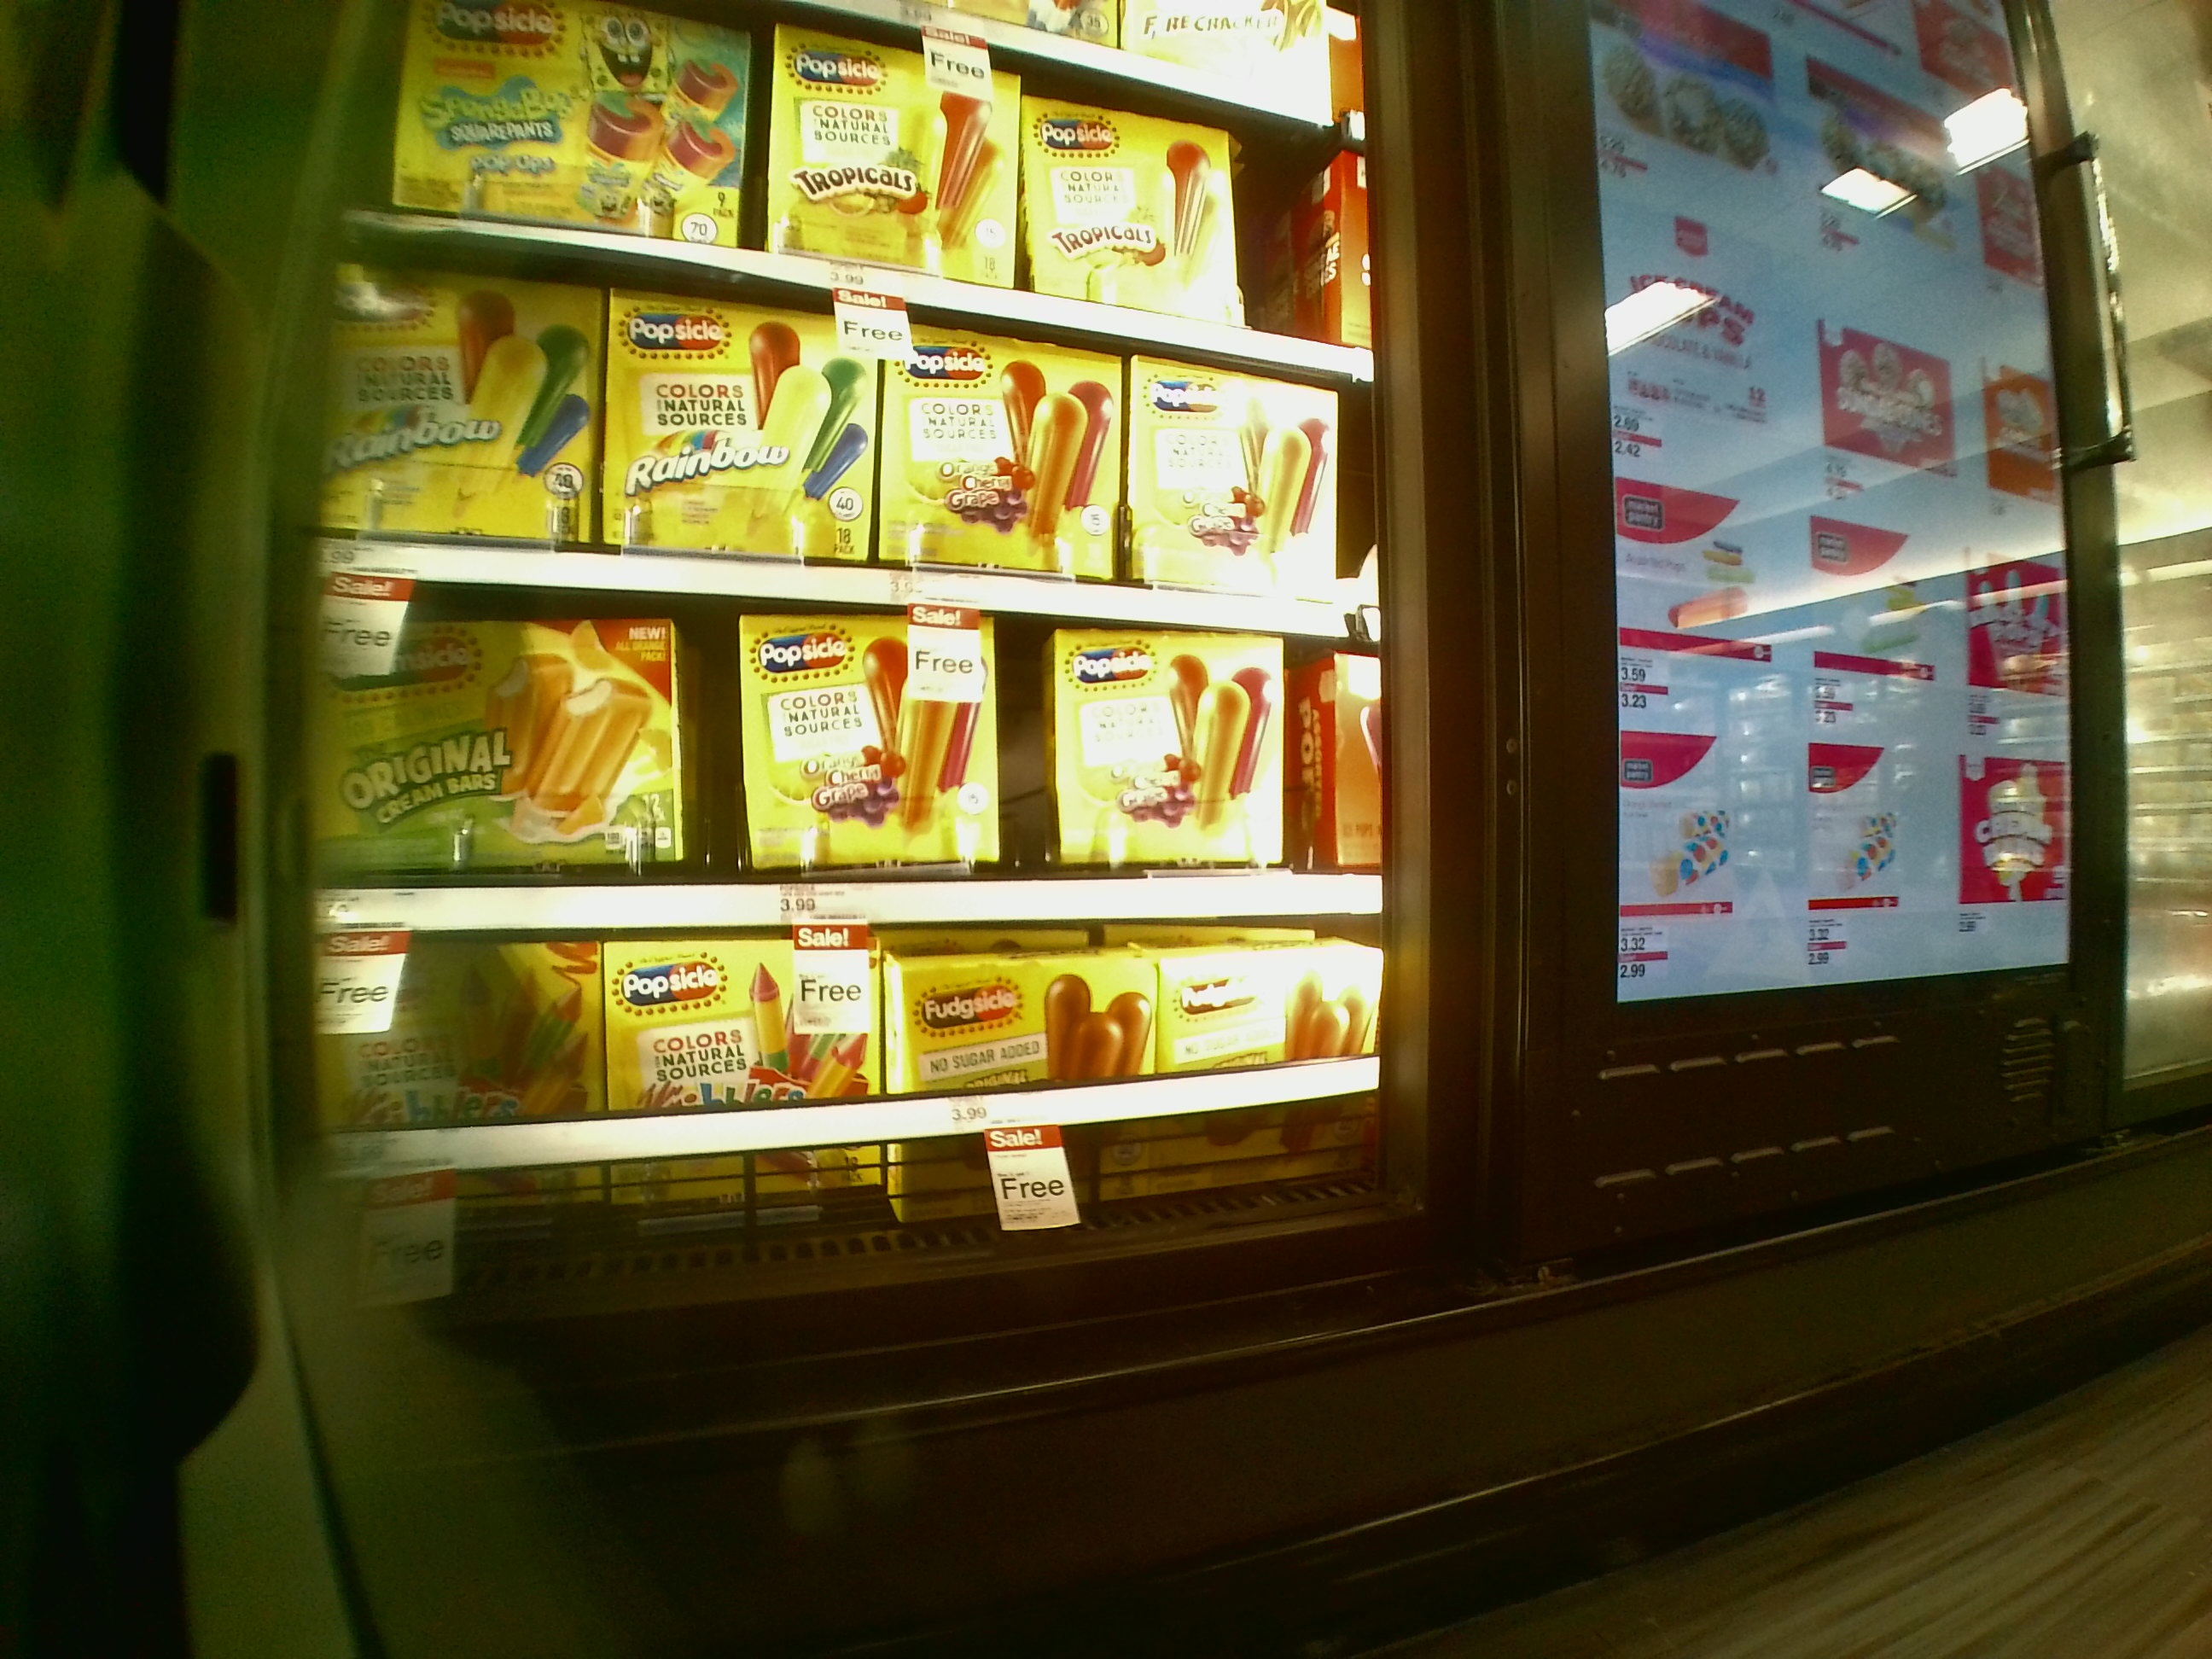shelf: (322, 929, 1390, 1263), (310, 592, 1369, 917), (315, 295, 1357, 610)
